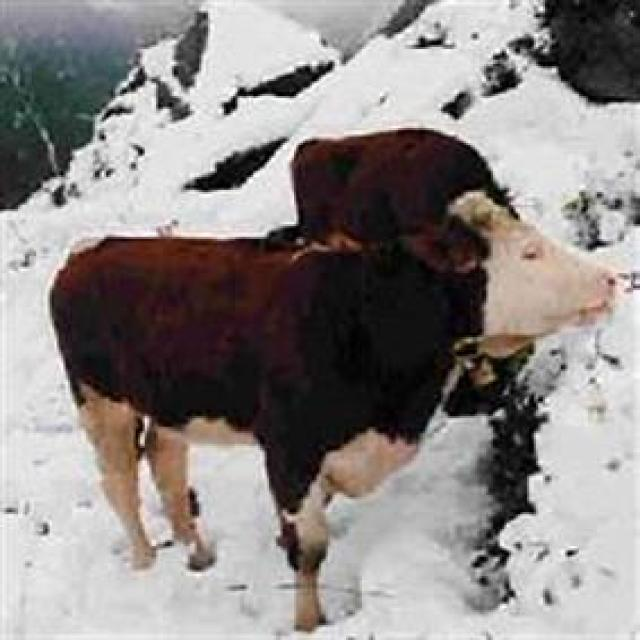cow: (46, 190, 626, 631)
